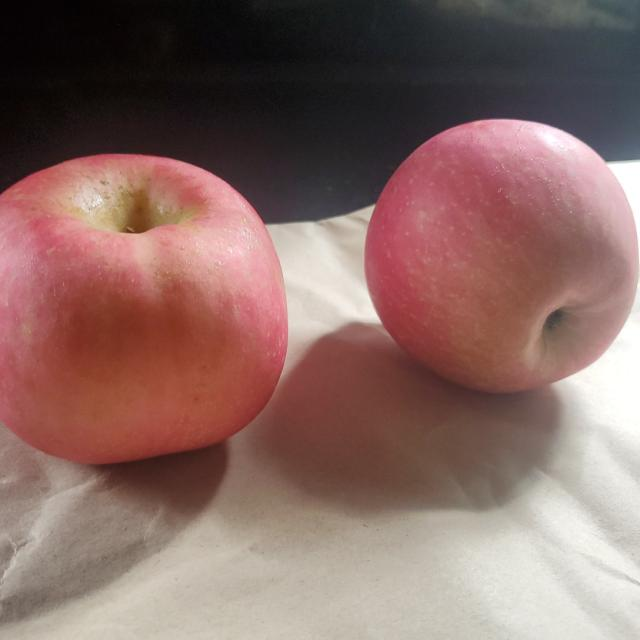apple: (2, 156, 288, 462), (368, 123, 640, 398)
